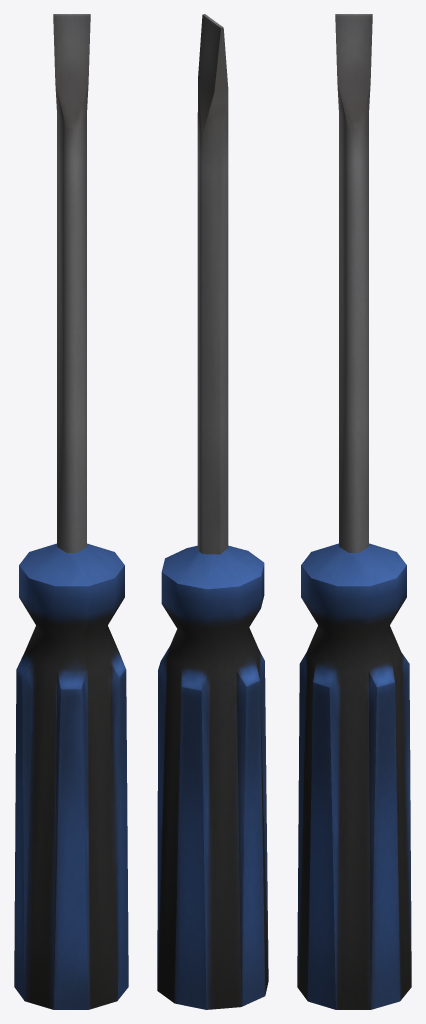
The model's file is Screwdriver.fbx.
The picture shows the model from 3 angles, left to right: view 1: azimuth 90°, elevation 25°; view 2: azimuth 210°, elevation 25°; view 3: azimuth 270°, elevation 25°; orthographic projection.
Visible parts, largest first — view 1: Screwdriver; view 2: Screwdriver; view 3: Screwdriver.
Boxes of the visible parts, bbox=[...] form: Screwdriver: bbox=[14, 14, 128, 1009]; Screwdriver: bbox=[157, 14, 268, 1009]; Screwdriver: bbox=[297, 14, 411, 1009].
Size of the model in its own units: 0.0219 by 0.2198 by 0.0231.
